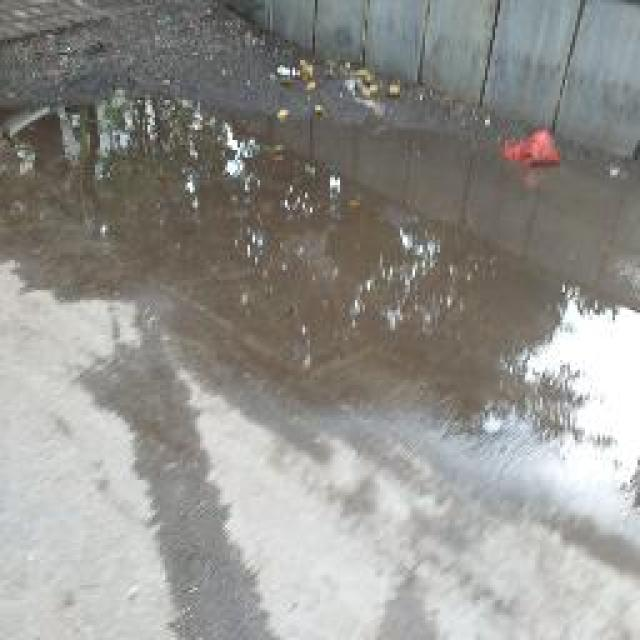stagnation: (8, 74, 354, 326)
